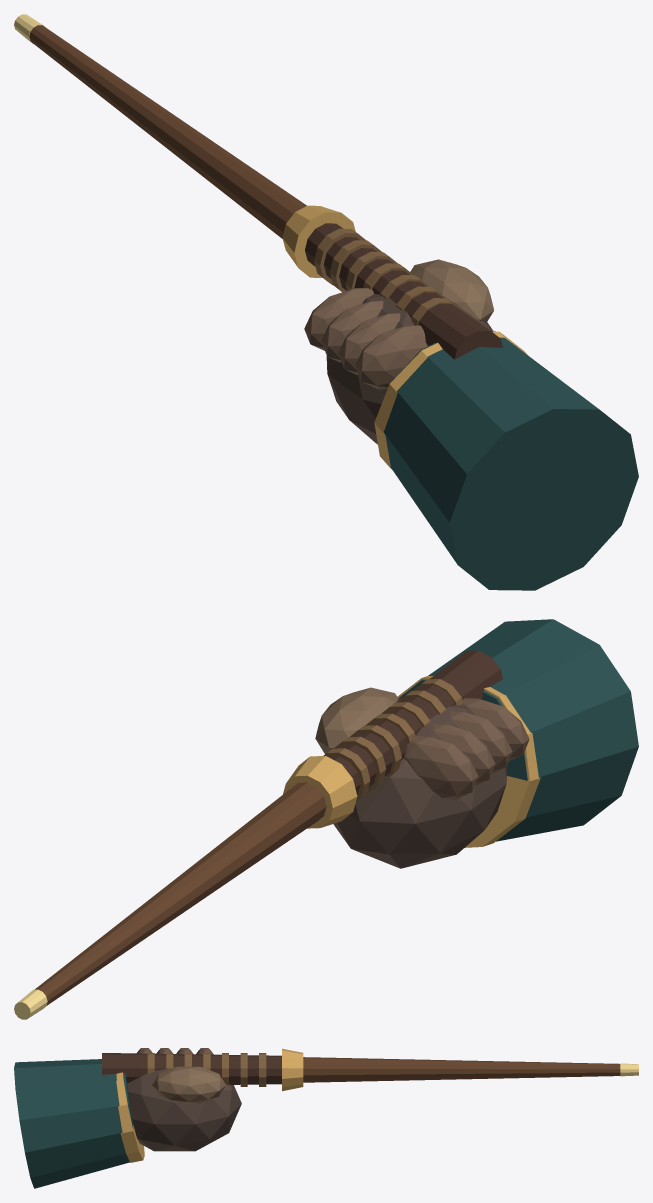
The model's file is varinha.glb.
3 views of the same model, one above another, from view 1: azimuth 30°, elevation 25°; view 2: azimuth 150°, elevation 25°; view 3: azimuth 270°, elevation 25° (orthographic). The views are drawn at different scales.
Parts seen in each view (by area): view 1: varinha; view 2: varinha; view 3: varinha.
Part boxes in pixels (bbox=[...]): varinha: bbox=[14, 14, 638, 590]; varinha: bbox=[14, 619, 638, 1019]; varinha: bbox=[14, 1048, 638, 1188].
Bounding box in the file's own units: 0.09 × 0.1024 × 0.4376.
